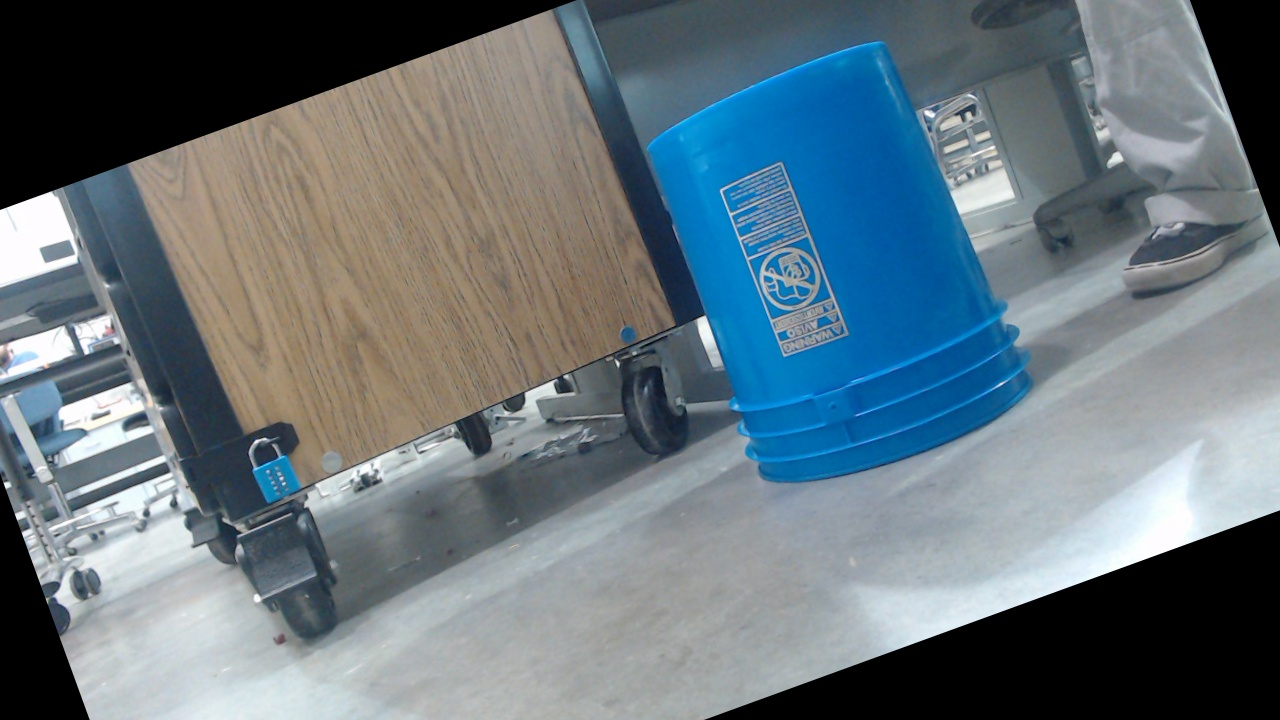blue_bucket: (638, 173, 1071, 671)
